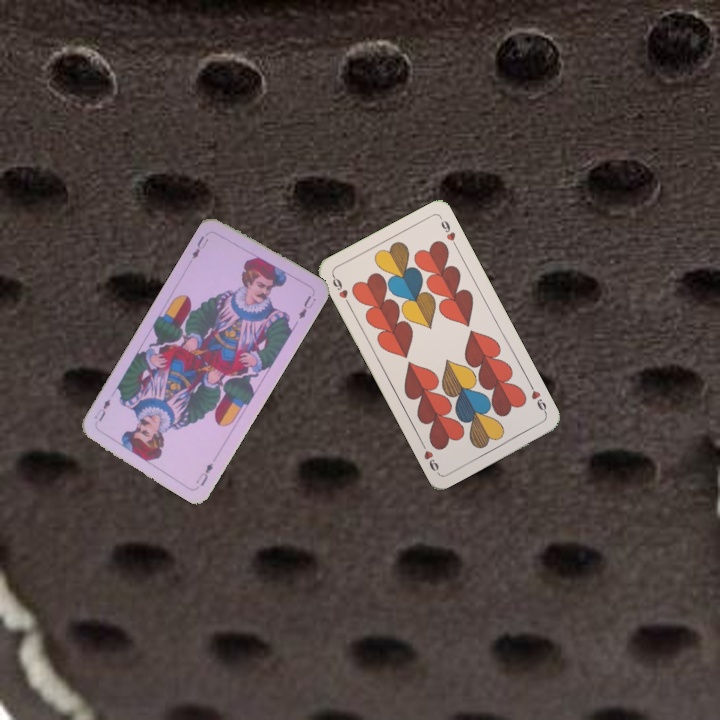EU: (192, 459, 216, 489), (188, 232, 211, 262)
H9: (328, 271, 353, 308), (525, 380, 550, 417)
